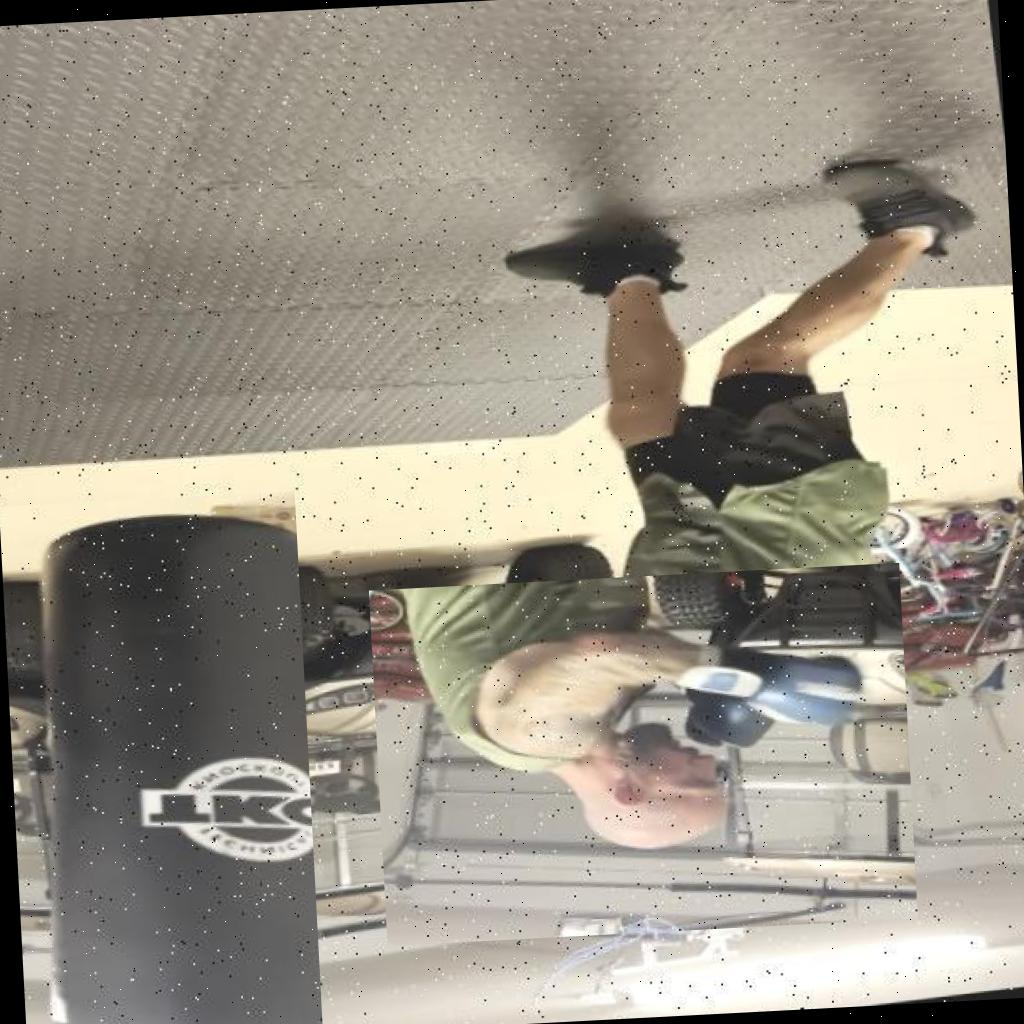bag: (0, 491, 323, 1024)
cross: (369, 563, 918, 946)
